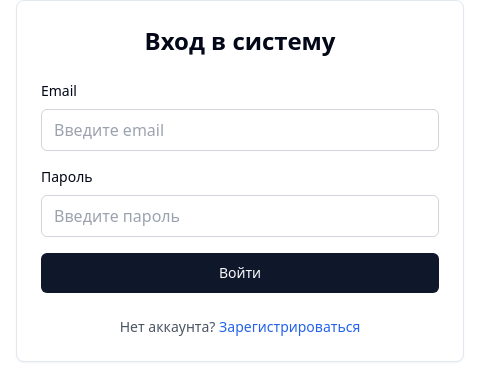
Scenario: SignInForm › shows loading state during form submission
Type "test@example.com" into the field labelled "Email" at (240, 130), box [41, 109, 439, 151]
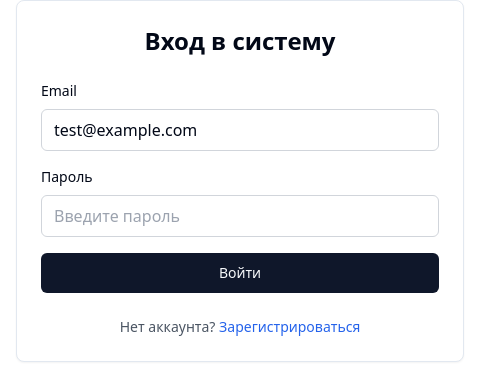
Type "password123" into the password field labelled "Пароль" at (240, 216), box [41, 195, 439, 237]
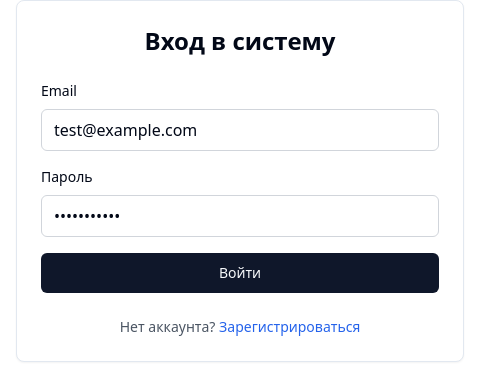
Click the button "Войти" at (240, 273), box [41, 253, 439, 293]
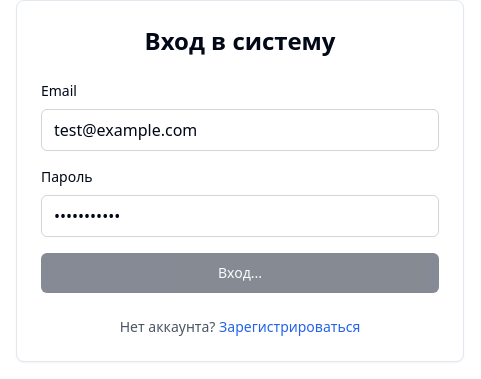
Now the button "Вход..." is disabled, box [41, 253, 439, 293]
